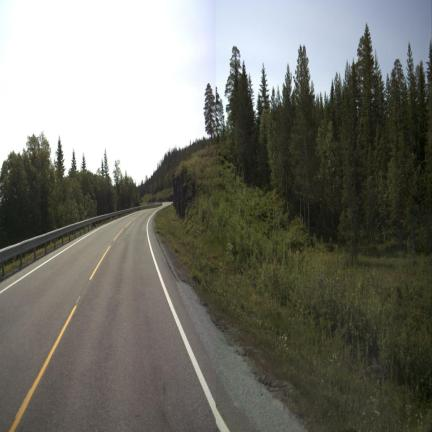Road: (0, 209, 249, 431)
